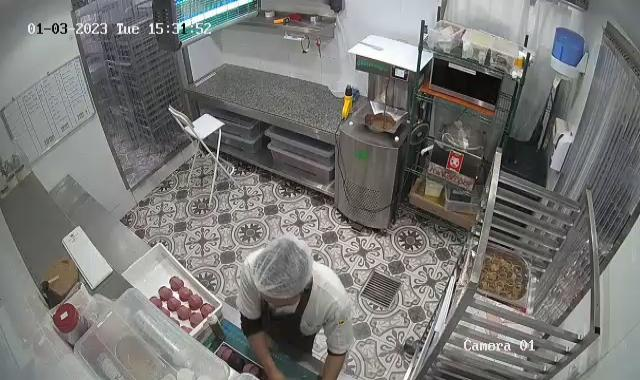hairnet: (253, 238, 315, 306)
